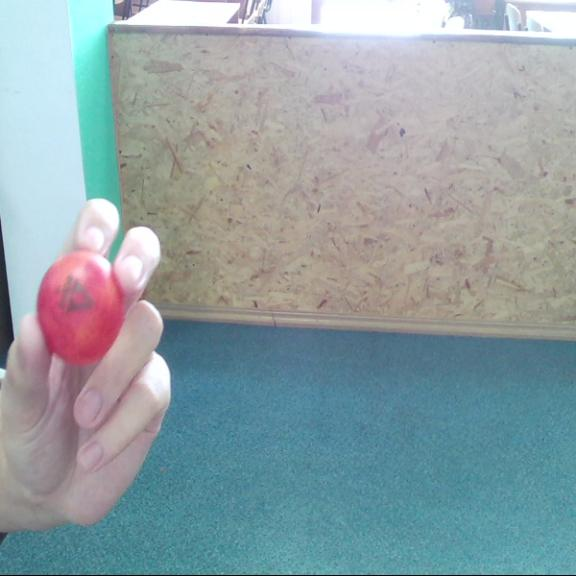ball: (38, 250, 125, 364)
